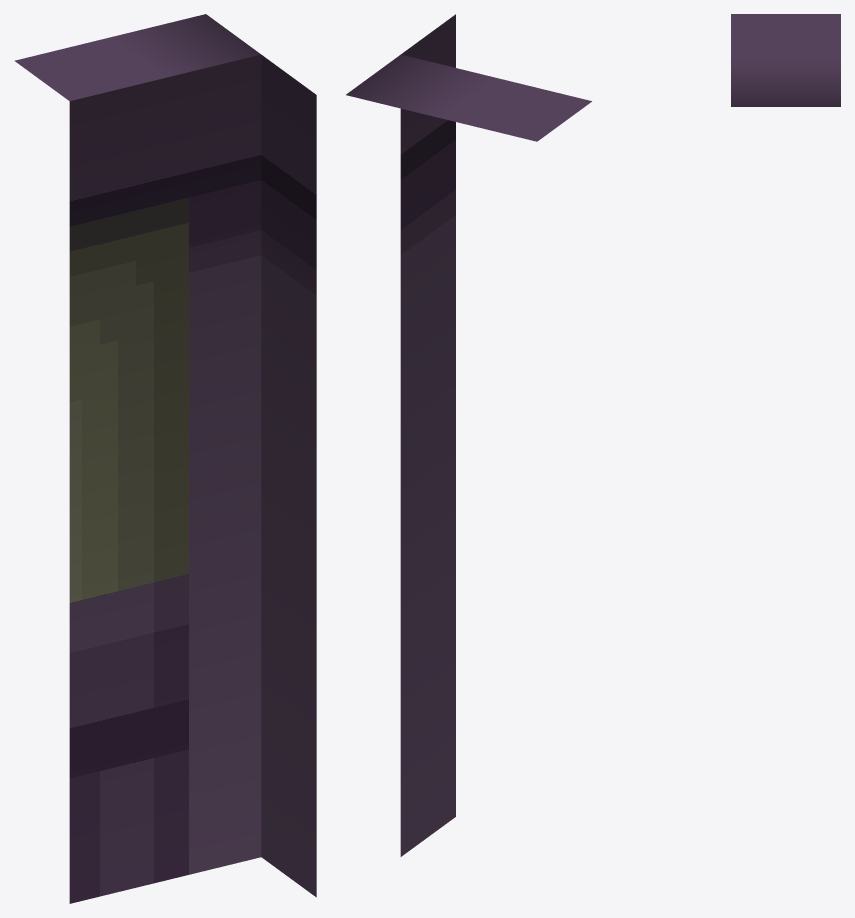
3 views of the same model, side by side, from view 1: azimuth 30°, elevation 25°; view 2: azimuth 150°, elevation 25°; view 3: azimuth 270°, elevation 25° (orthographic).
Bounding box in the file's own units: 1 × 4 × 1.
2 materials, 2 textured.
